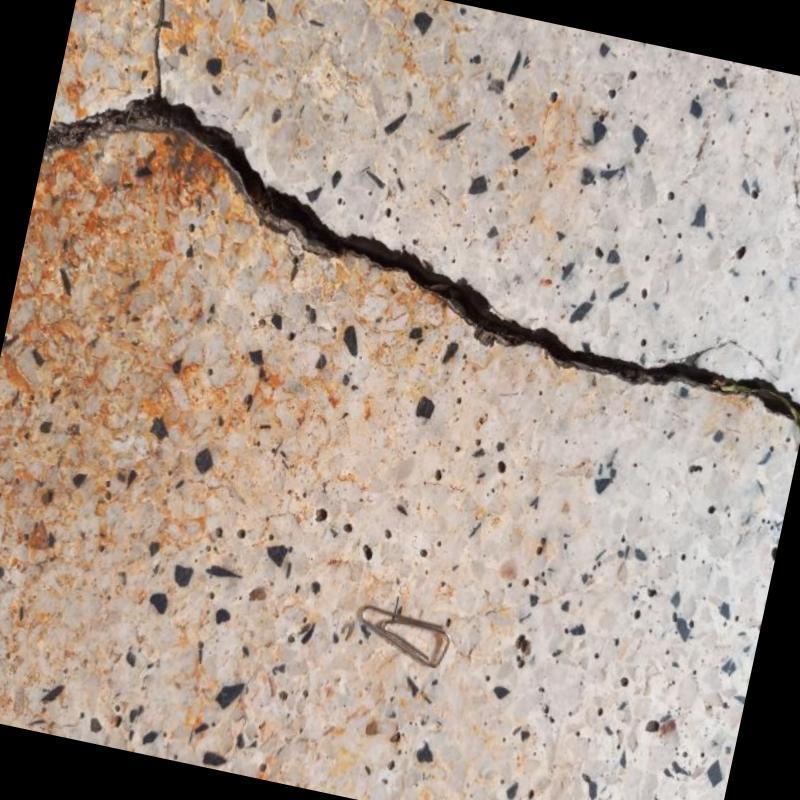pothole: (43, 91, 800, 432)
